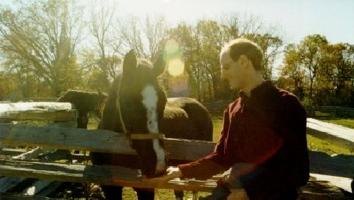person: (143, 38, 311, 200)
